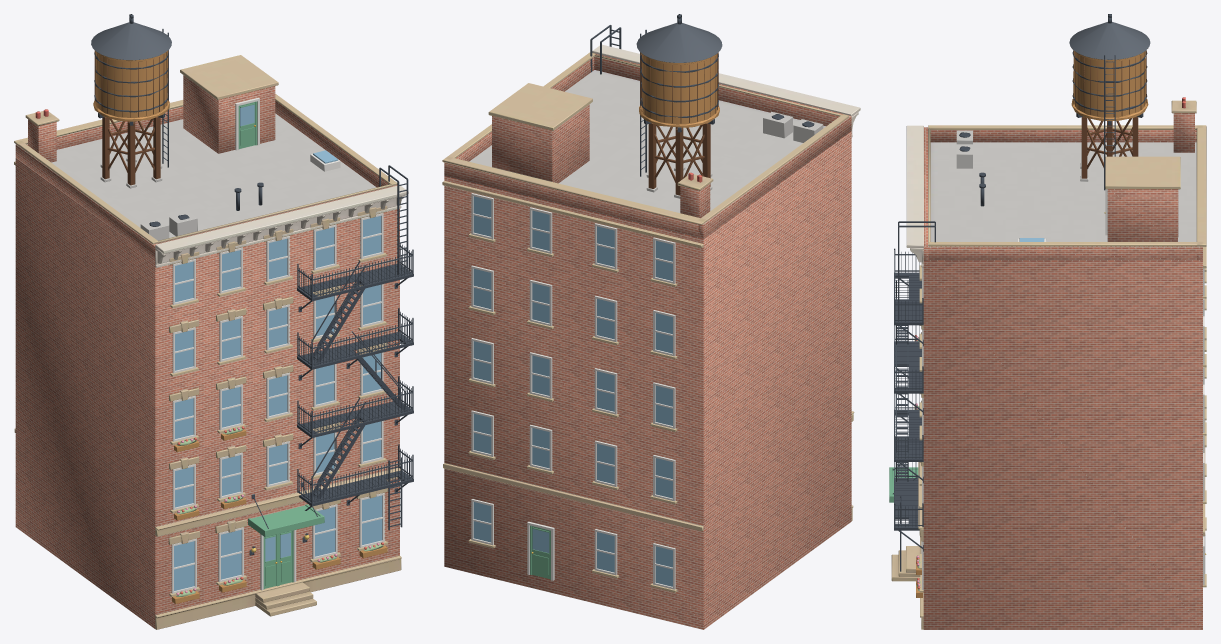
Rendered from bldg_apt.glb.
The picture shows the model from 3 angles, left to right: view 1: azimuth 30°, elevation 25°; view 2: azimuth 150°, elevation 25°; view 3: azimuth 270°, elevation 25°; orthographic projection. The views are drawn at different scales.
Parts seen in each view (by area): view 1: walk-up-apartment_walls, walk-up-apartment_details, walk-up-apartment_body, walk-up-apartment_water_tank, walk-up-apartment_windows, walk-up-apartment_plants; view 2: walk-up-apartment_walls, walk-up-apartment_body, walk-up-apartment_details, walk-up-apartment_water_tank, walk-up-apartment_windows; view 3: walk-up-apartment_walls, walk-up-apartment_body, walk-up-apartment_details, walk-up-apartment_water_tank, walk-up-apartment_windows.
Boxes of the visible parts, x1,y1,x2,y2 form: walk-up-apartment_walls: (15, 75, 399, 628); walk-up-apartment_details: (93, 14, 413, 603); walk-up-apartment_body: (14, 55, 408, 629); walk-up-apartment_water_tank: (91, 22, 171, 185); walk-up-apartment_windows: (169, 125, 387, 596); walk-up-apartment_plants: (176, 426, 383, 596); walk-up-apartment_walls: (444, 53, 851, 629); walk-up-apartment_body: (442, 44, 860, 531); walk-up-apartment_details: (471, 14, 823, 589); walk-up-apartment_water_tank: (636, 23, 722, 195); walk-up-apartment_windows: (468, 233, 677, 592); walk-up-apartment_walls: (923, 113, 1202, 629); walk-up-apartment_body: (891, 97, 1206, 629); walk-up-apartment_details: (889, 14, 1205, 597); walk-up-apartment_water_tank: (1069, 22, 1150, 178); walk-up-apartment_windows: (919, 212, 1206, 592).
Size of the model in its own units: 12 by 24.77 by 13.45.
Materials: 16 (2 with a texture image).
